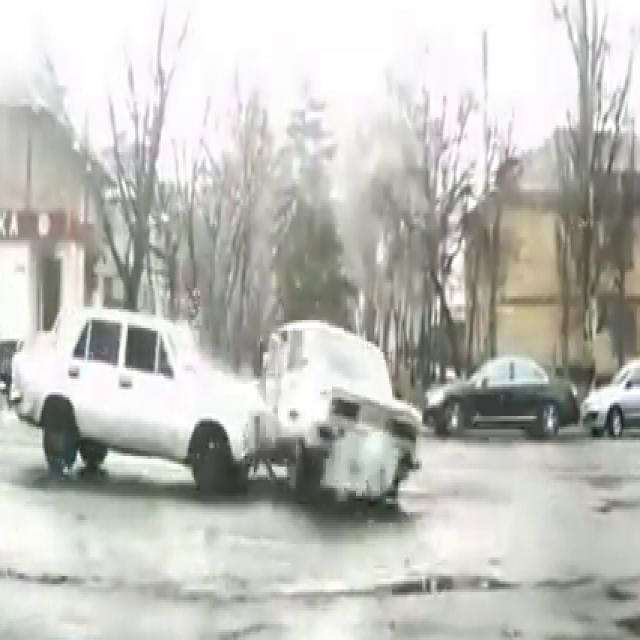accident: (76, 300, 420, 514)
